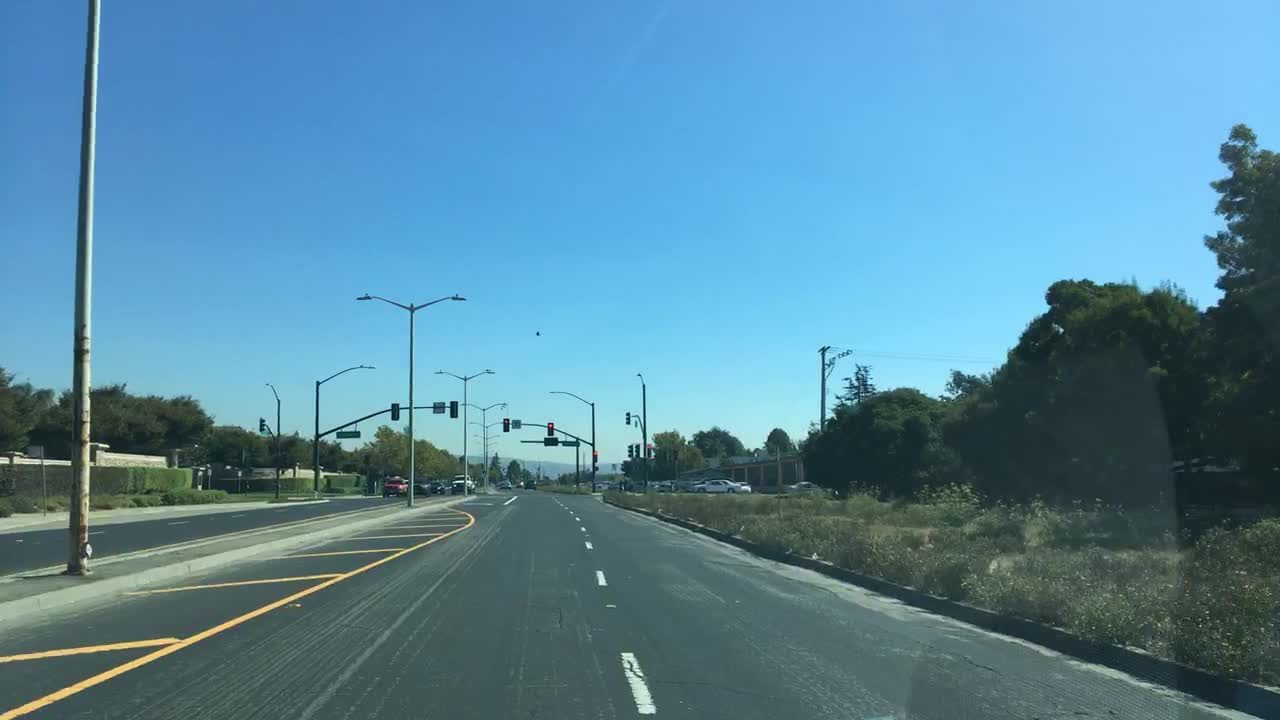car: (693, 479, 750, 492), (378, 477, 408, 497), (448, 474, 476, 494), (782, 480, 821, 494), (407, 476, 433, 494), (691, 477, 746, 483), (673, 479, 702, 488), (430, 479, 446, 492), (523, 477, 537, 491), (626, 482, 645, 492), (653, 482, 671, 491), (495, 479, 511, 489), (607, 482, 626, 489), (595, 479, 609, 488), (577, 479, 593, 486), (512, 480, 525, 488)
person: (241, 477, 254, 497)
traffic light: (644, 442, 655, 462), (390, 400, 401, 420), (450, 397, 459, 420), (633, 440, 641, 460), (670, 446, 679, 463), (546, 420, 555, 436), (258, 416, 266, 432), (622, 410, 630, 425), (626, 442, 633, 457), (502, 417, 509, 431), (592, 450, 598, 462)
traffic sign: (333, 430, 361, 439), (27, 443, 42, 459), (431, 401, 443, 414), (884, 440, 895, 454), (543, 437, 558, 445), (511, 419, 520, 431), (561, 440, 580, 445)
